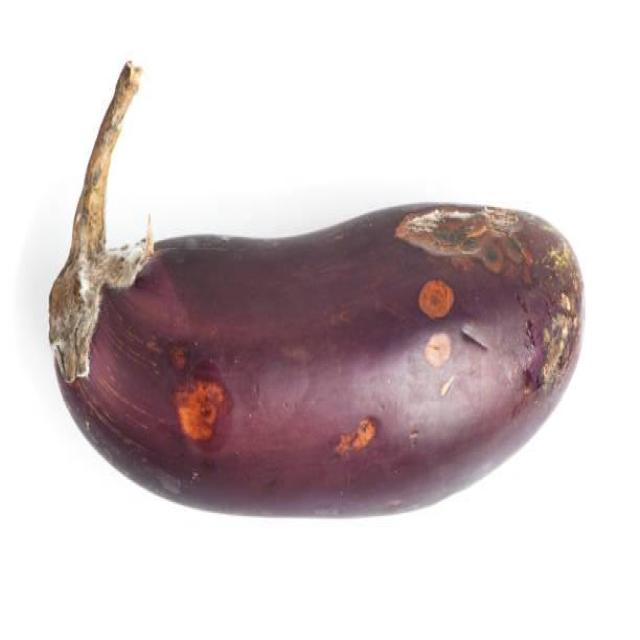eggplant: (46, 60, 583, 517)
